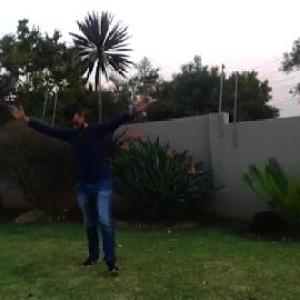takeoff: (17, 84, 153, 282)
